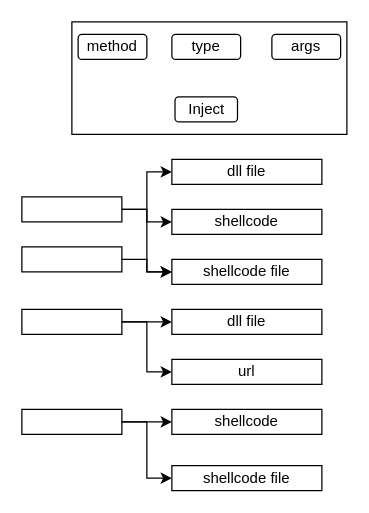
The diagram is 369 pixels wide and 513 high, and some of its shapes have lost their labels. Each missing label, with the centre of its shape:
"apc" goes at point (71, 259).
"context" goes at point (71, 421).
"reflect" goes at point (71, 321).
"remote thread" goes at point (71, 209).
